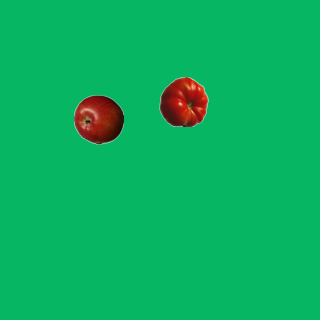Apple Braeburn: (73, 94, 123, 144)
Tomato 3: (158, 76, 208, 126)
